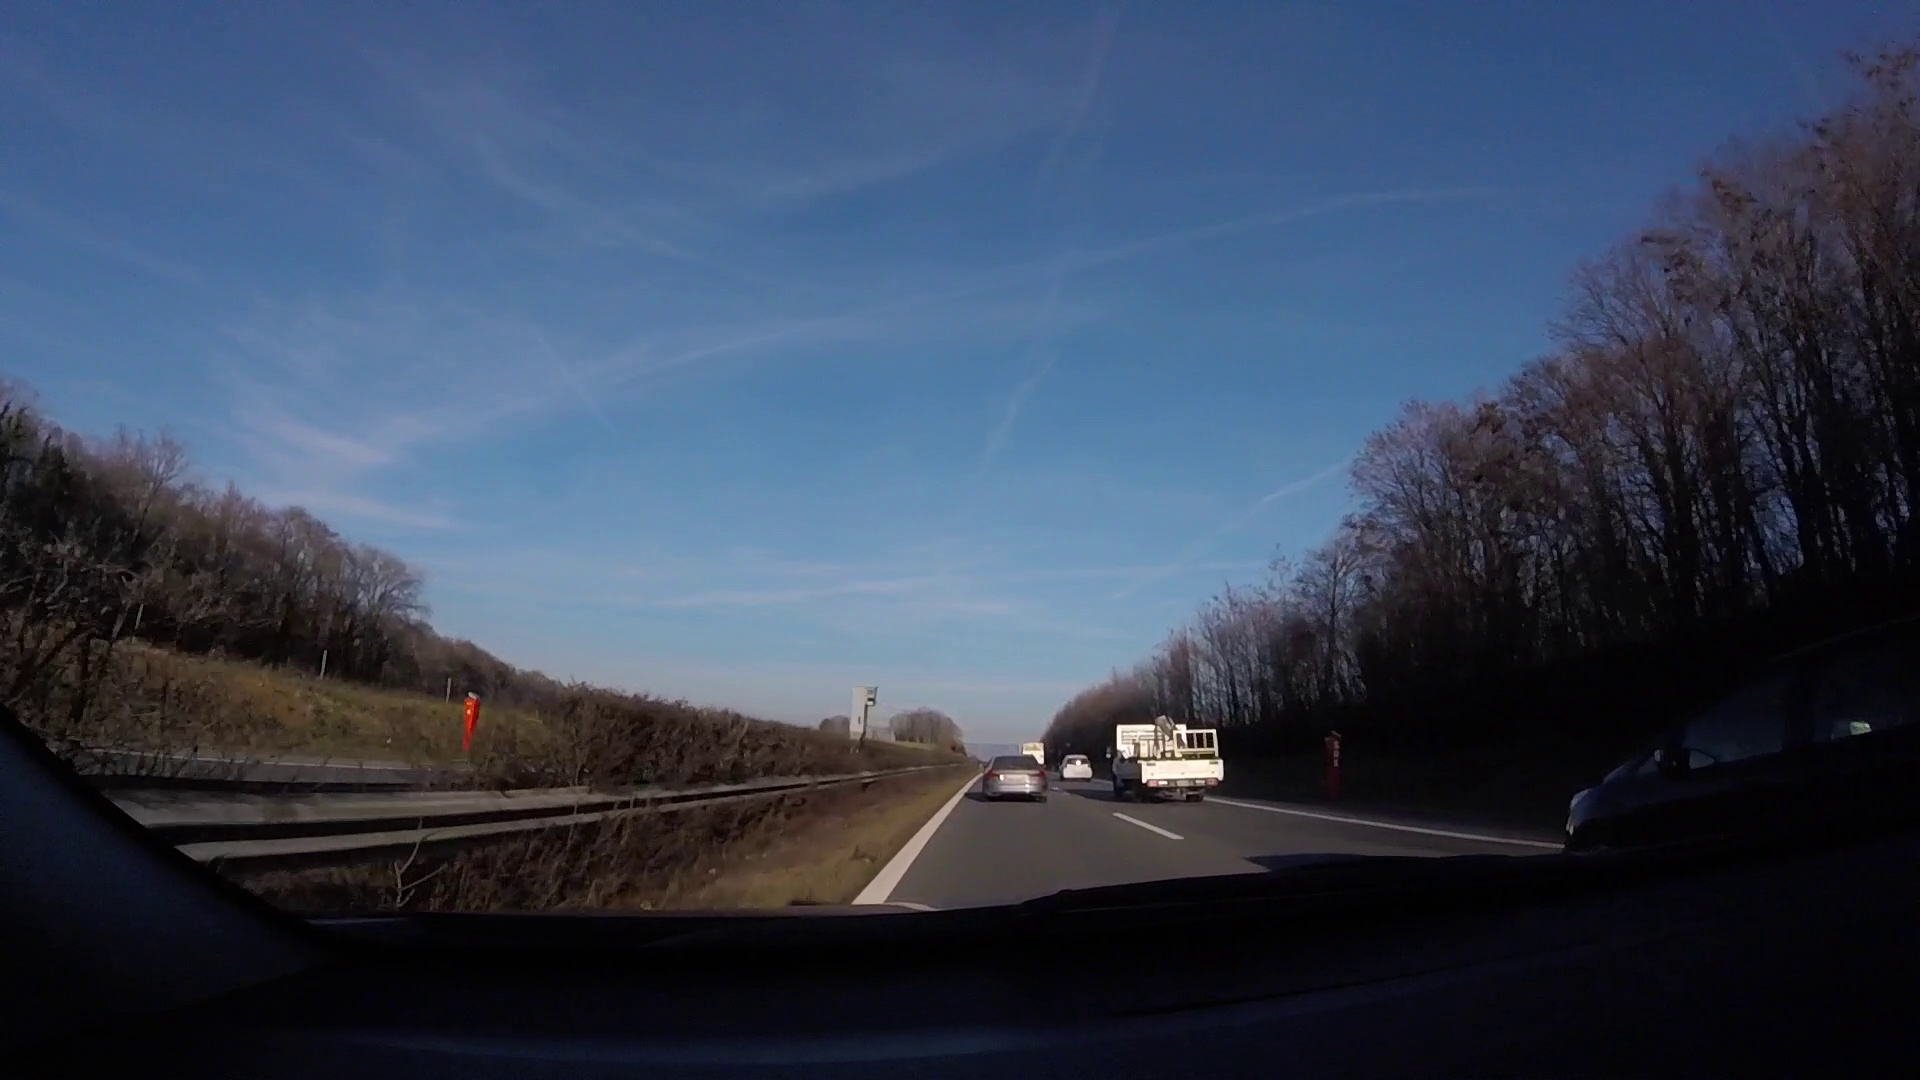radar: (849, 684, 880, 742)
